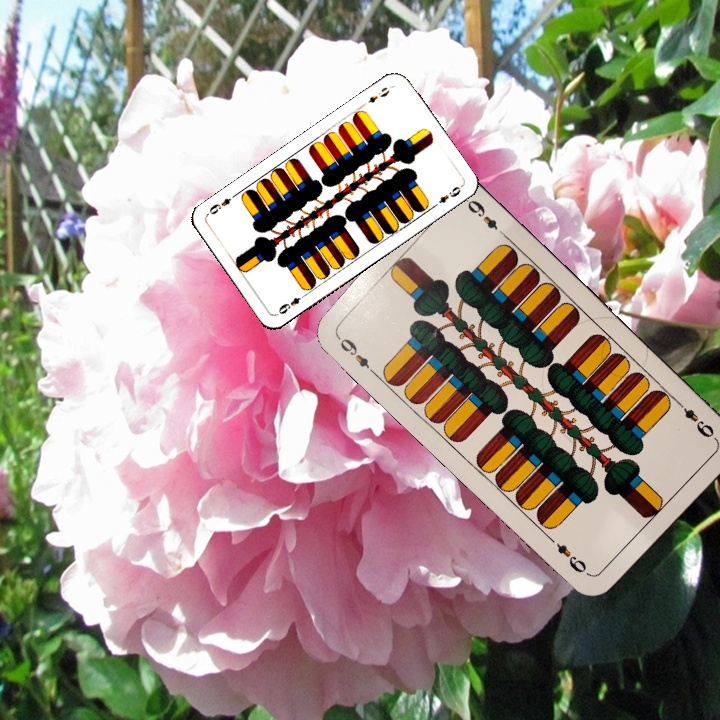E9: (332, 332, 379, 378), (672, 396, 717, 441), (274, 289, 309, 317), (364, 83, 392, 106)
